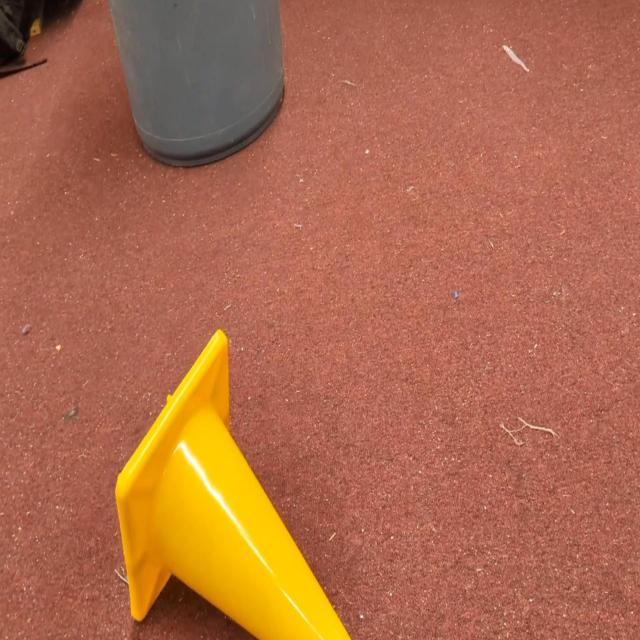frc_cone: (116, 331, 352, 639)
